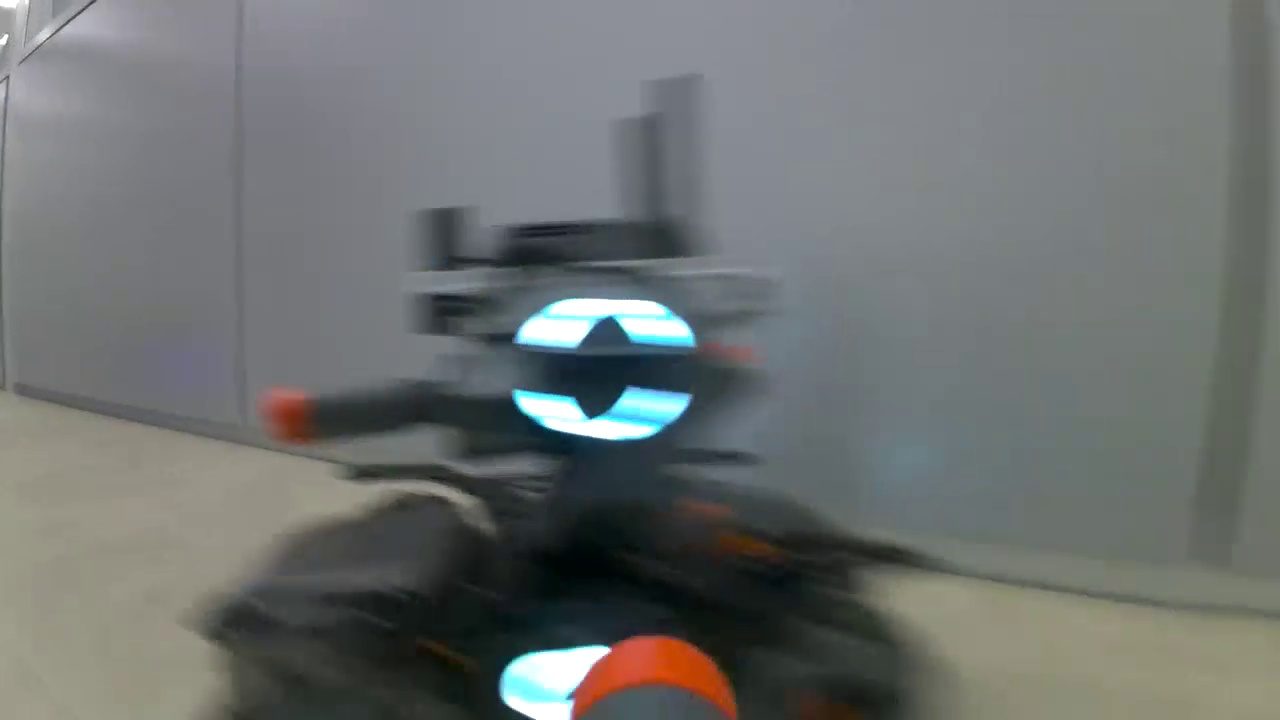robot: (187, 198, 940, 720)
